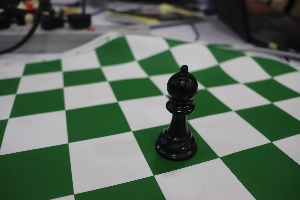black_bishop: (148, 49, 205, 168)
